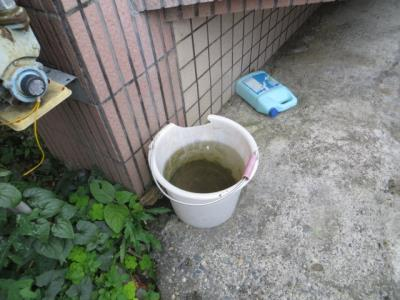bottle: (233, 68, 299, 120)
bucket: (147, 113, 259, 230)
